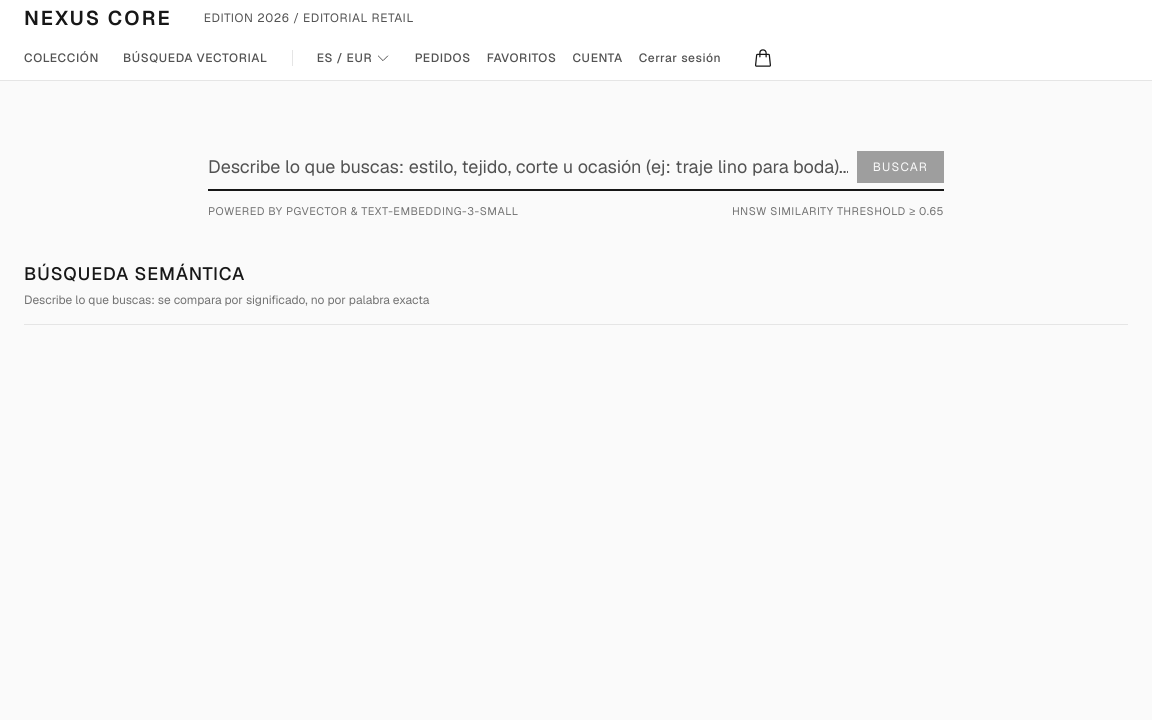
Test case: SearchPage (búsqueda semántica) › R6 — mientras busca muestra el estado de carga y los skeletons
Step 1. Type "traje lino" into the field with placeholder "Describe lo que buscas" → (576, 167), box [208,153,944,181]
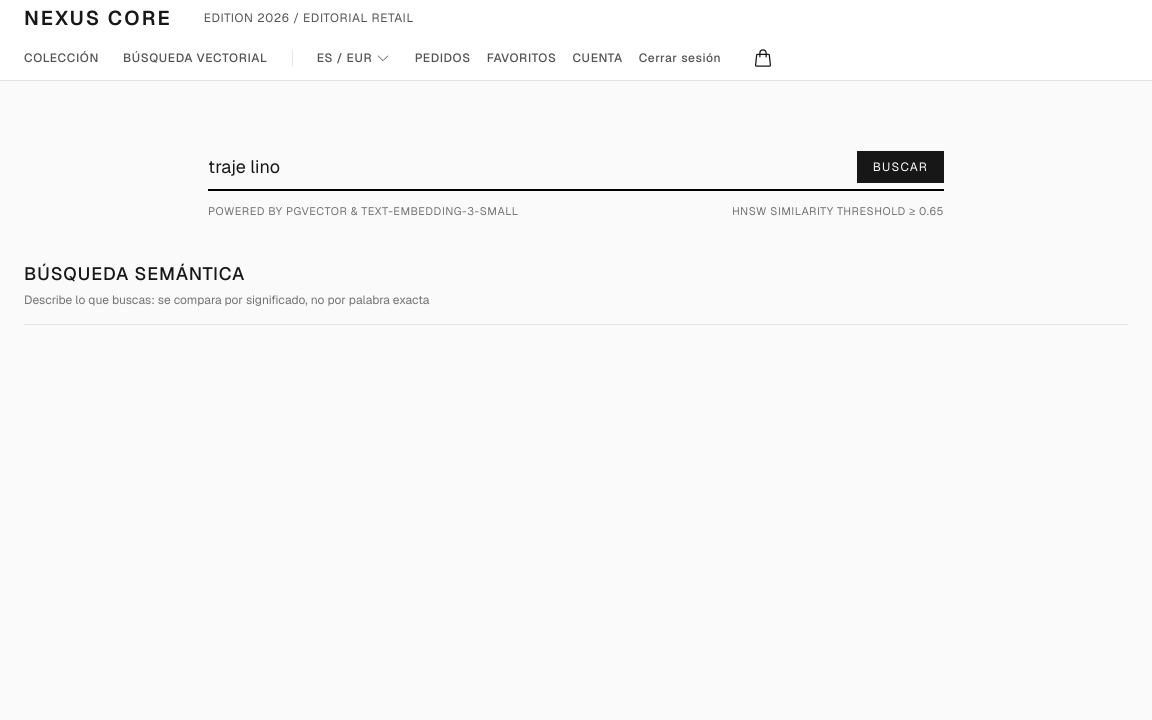
Step 2. Click the button "Buscar" → click(900, 167), box [857,151,944,183]
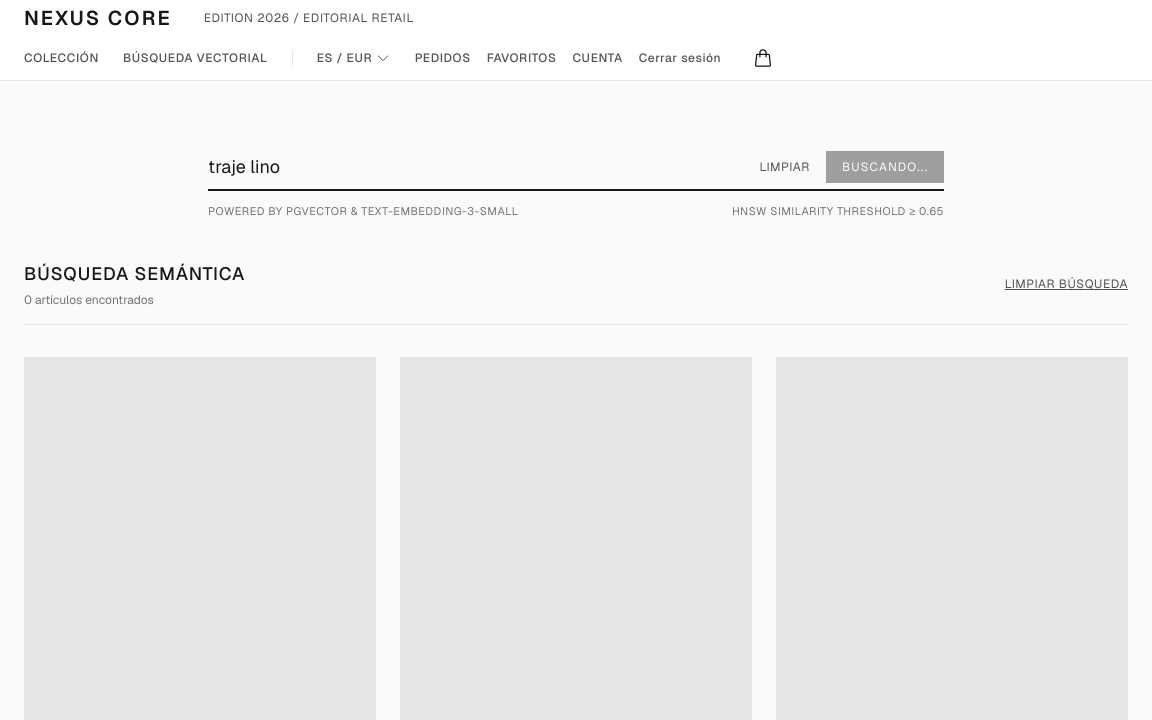
Expected: the button "Buscando..." is shown, [826,151,944,183]
